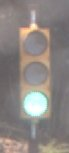Green: (12, 24, 54, 126)
